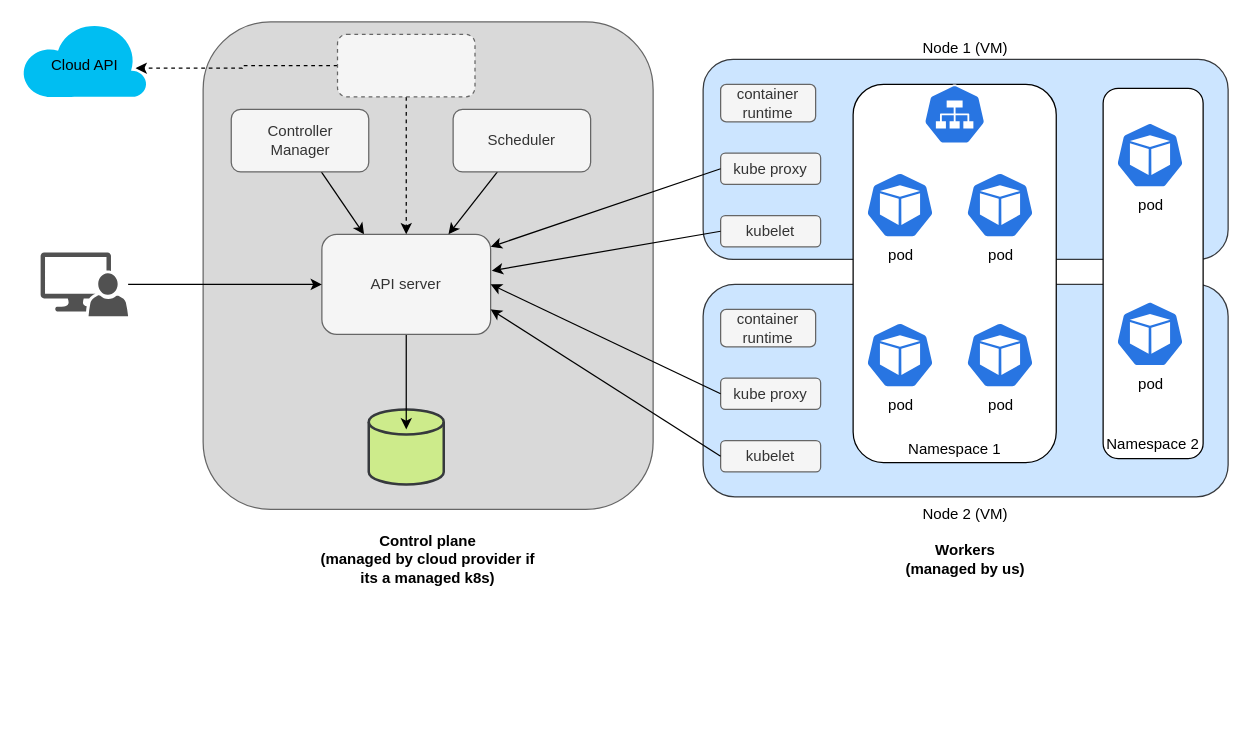
The diagram is 1250 pixels wide and 731 high, and some of its shapes have lost their labels. The shapes that lost their labels are listed below. From the top down, each one's centre as x and y in pixels, then its label:
At (x=405, y=65): "Cloud Controller Manager (optional)".
At (x=954, y=113): "Service".
At (x=84, y=284): "kubectl".
At (x=405, y=446): "etcd".
